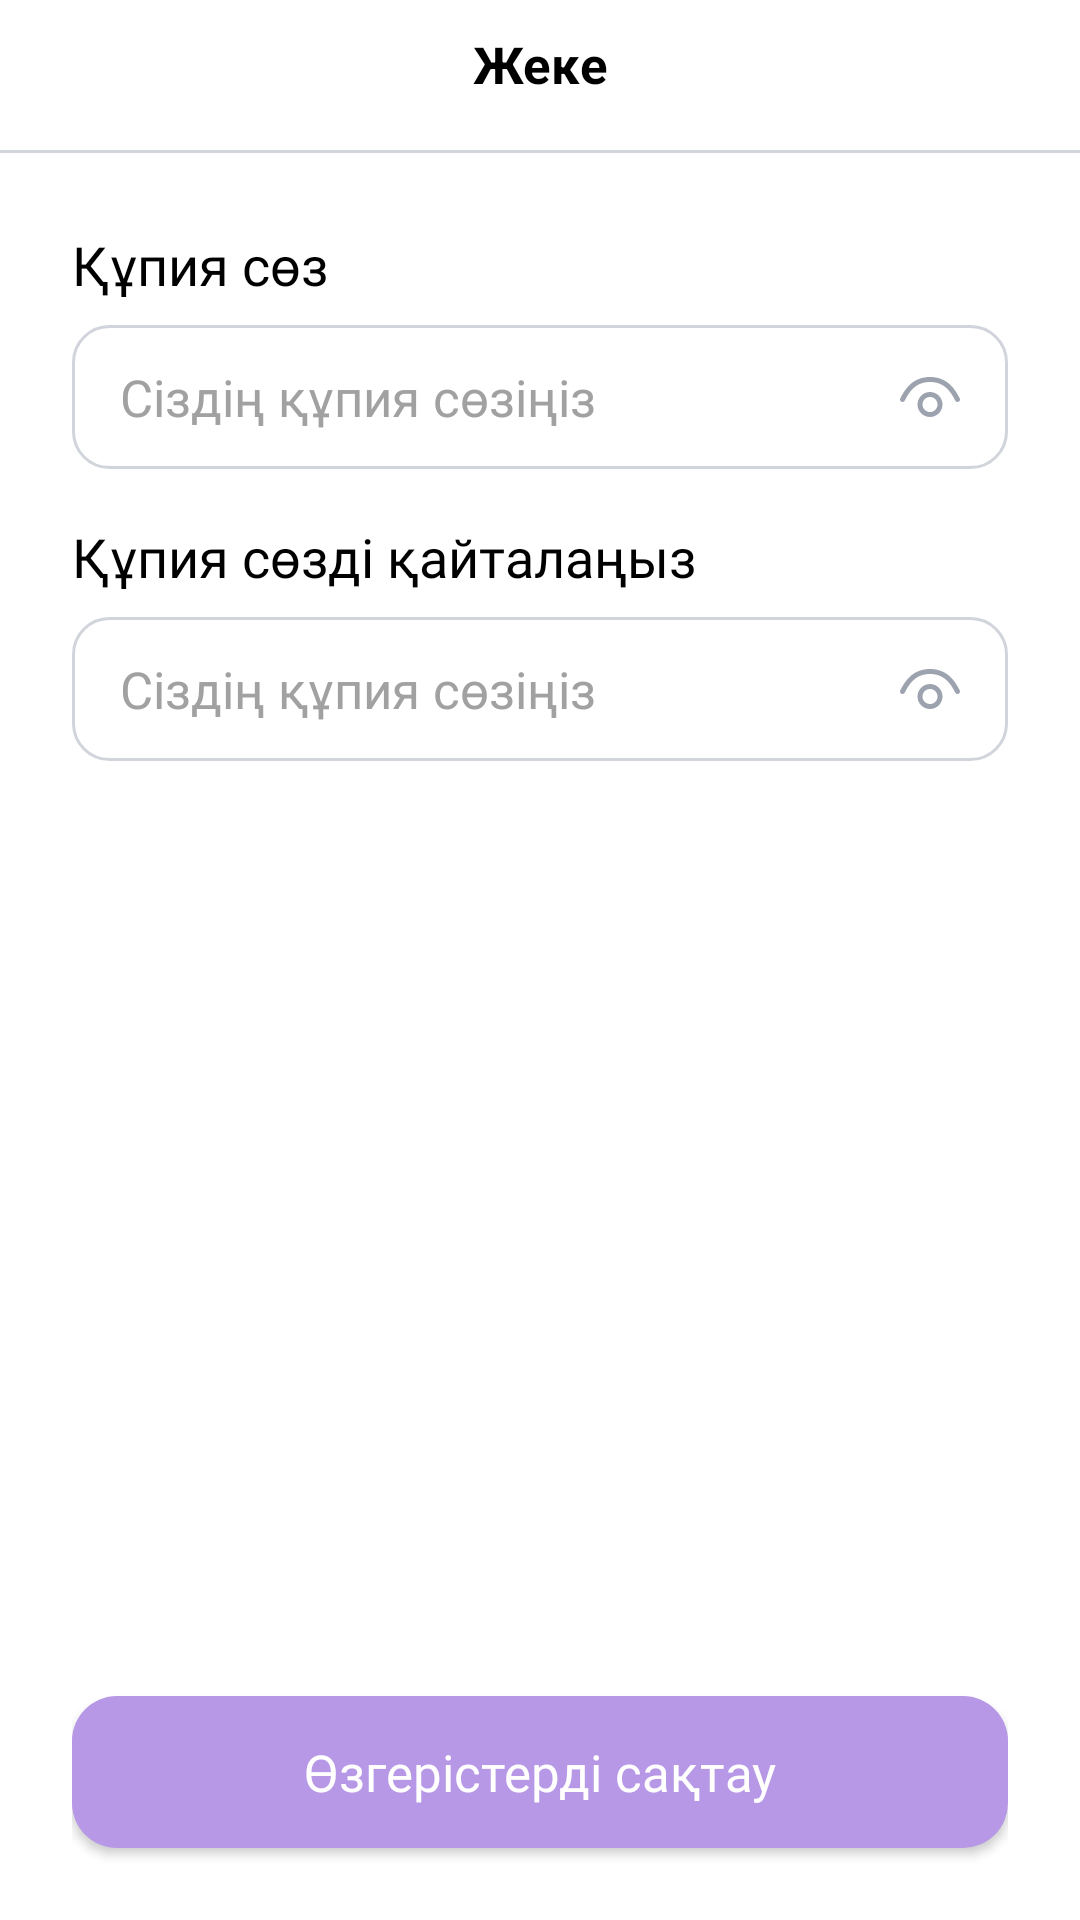

Screen size 1080 × 1920. Icon name, then its box in pixels as (x1, y1, x2, y2):
eye pass registration: (900, 377, 960, 417), (900, 669, 960, 709)
